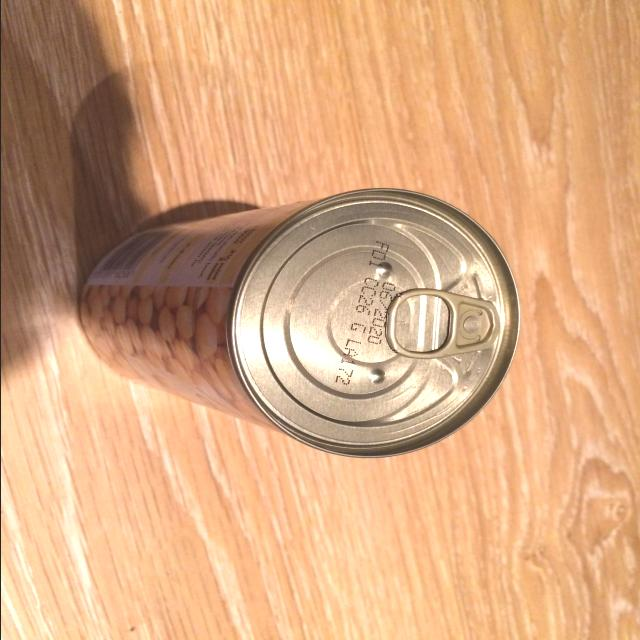Food Can: (78, 188, 519, 458)
Pop tab: (384, 288, 500, 359), (395, 295, 449, 352)
